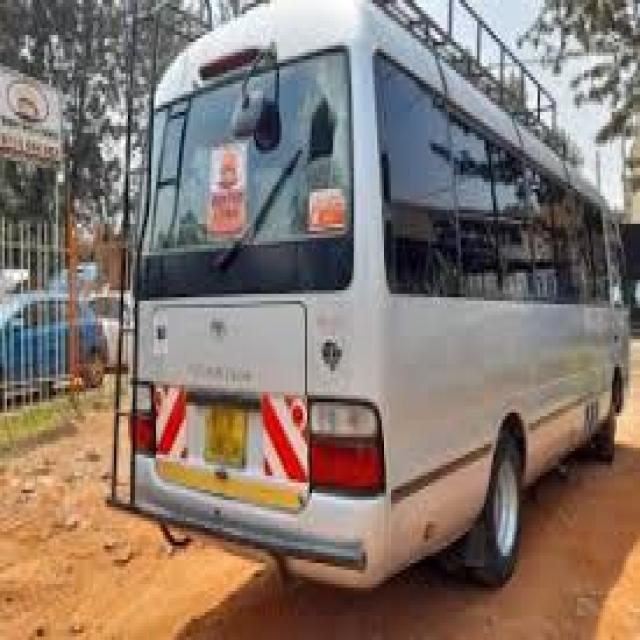bus: (97, 0, 640, 611)
